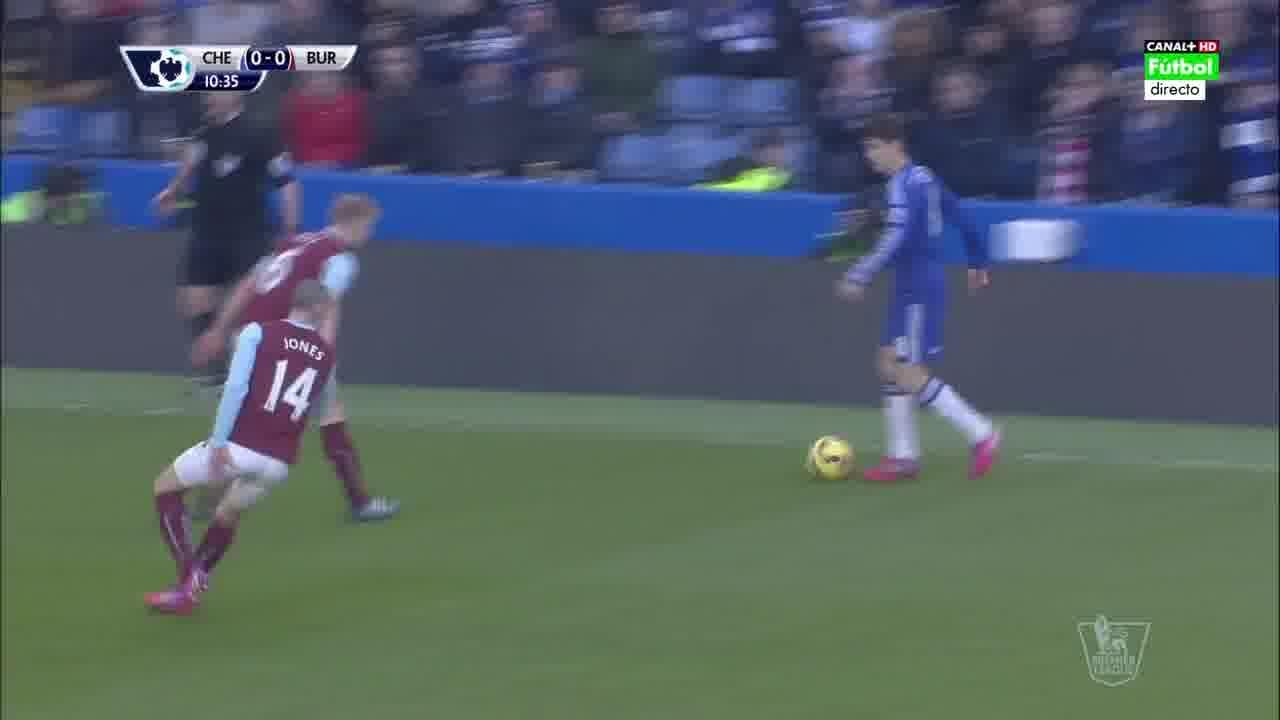football: (808, 434, 856, 481)
